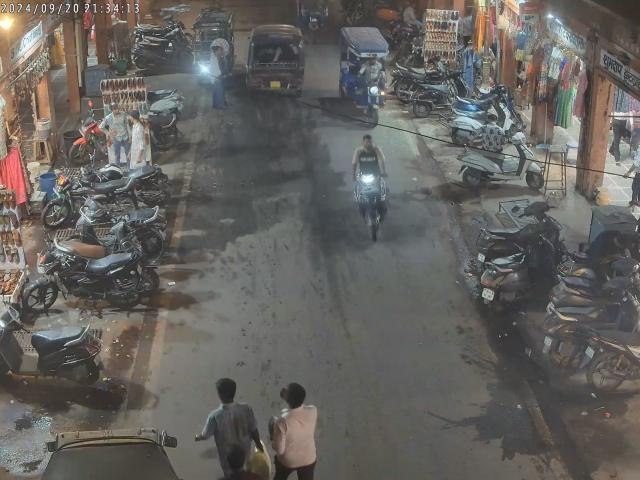auto: (246, 25, 307, 96), (339, 25, 394, 96), (0, 274, 22, 378)
motorbike: (49, 238, 150, 310)
person: (195, 381, 269, 480), (269, 385, 323, 480)
scooty: (528, 206, 640, 356), (452, 198, 564, 332), (0, 310, 104, 402), (451, 125, 546, 190)
scooty-rider: (348, 132, 388, 242)
